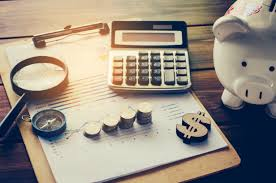Calculator: (108, 19, 193, 95)
